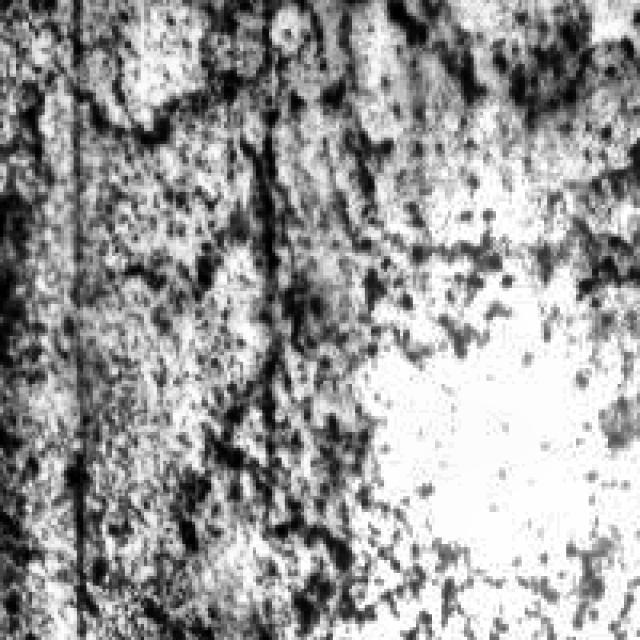Rolled_in_Scale: (58, 73, 404, 582), (278, 202, 634, 618), (378, 0, 634, 131)
